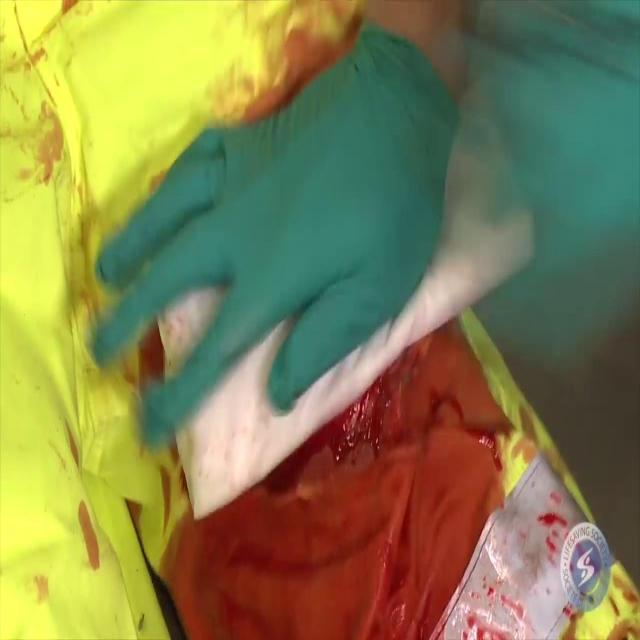flood: (230, 335, 520, 485)
